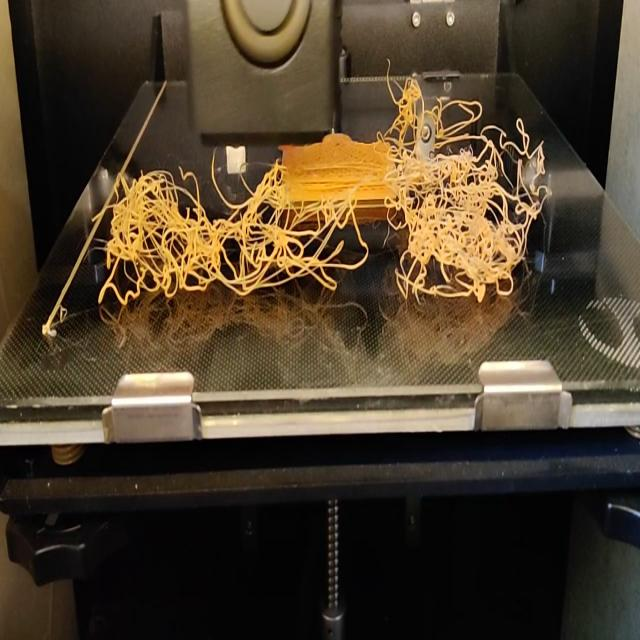spaghetti: (94, 144, 552, 309), (378, 56, 531, 144)
